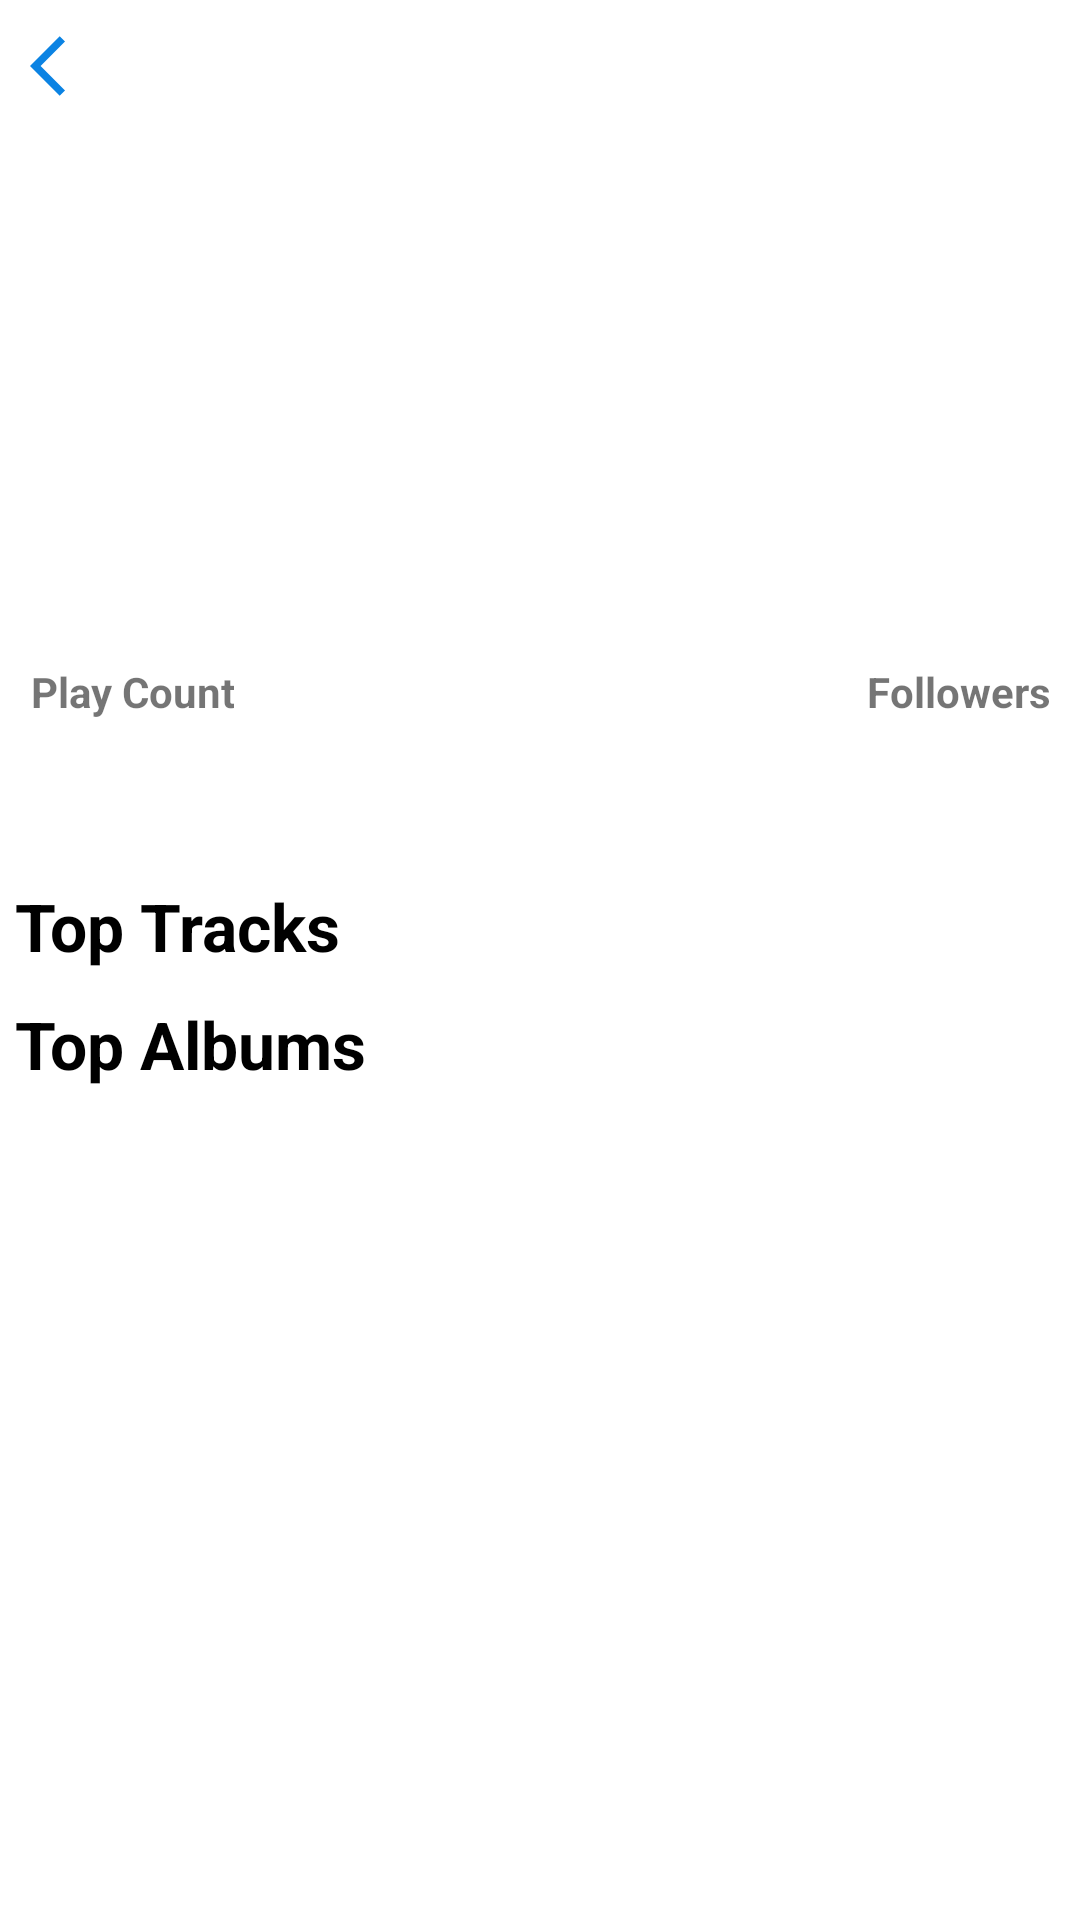

Named icons in this screenshot (1080w x 1920h) and their centers, [x,y]:
arrow back: [47,66]
